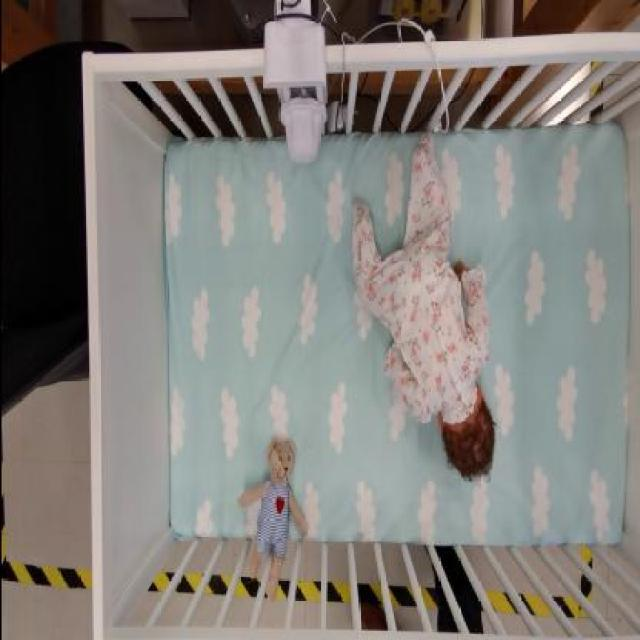baby: (352, 137, 499, 482)
